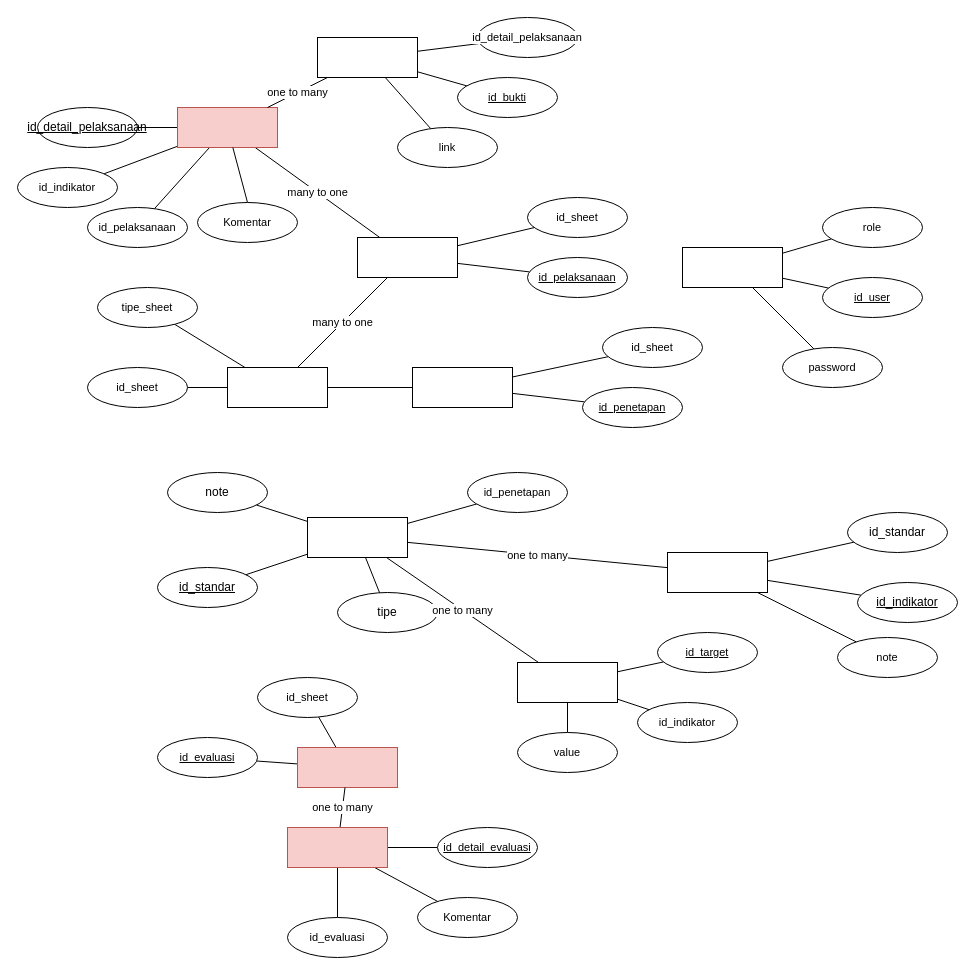
Image size: 975x975. Some labels were removed from this diagram. Each missing label, with the centre of its shape:
"BuktiPelaksanaan" belongs at (x=367, y=57).
"Detail_evaluasi" belongs at (x=337, y=847).
"Detail_pelaksanaan" belongs at (x=227, y=127).
"Evaluasi" belongs at (x=347, y=767).
"Indikator" belongs at (x=717, y=572).
"Pelaksanaan" belongs at (x=407, y=257).
"Penetapan" belongs at (x=462, y=387).
"Sheet" belongs at (x=277, y=387).
"Standar" belongs at (x=357, y=537).
"Target" belongs at (x=567, y=682).
"User" belongs at (x=732, y=267).
